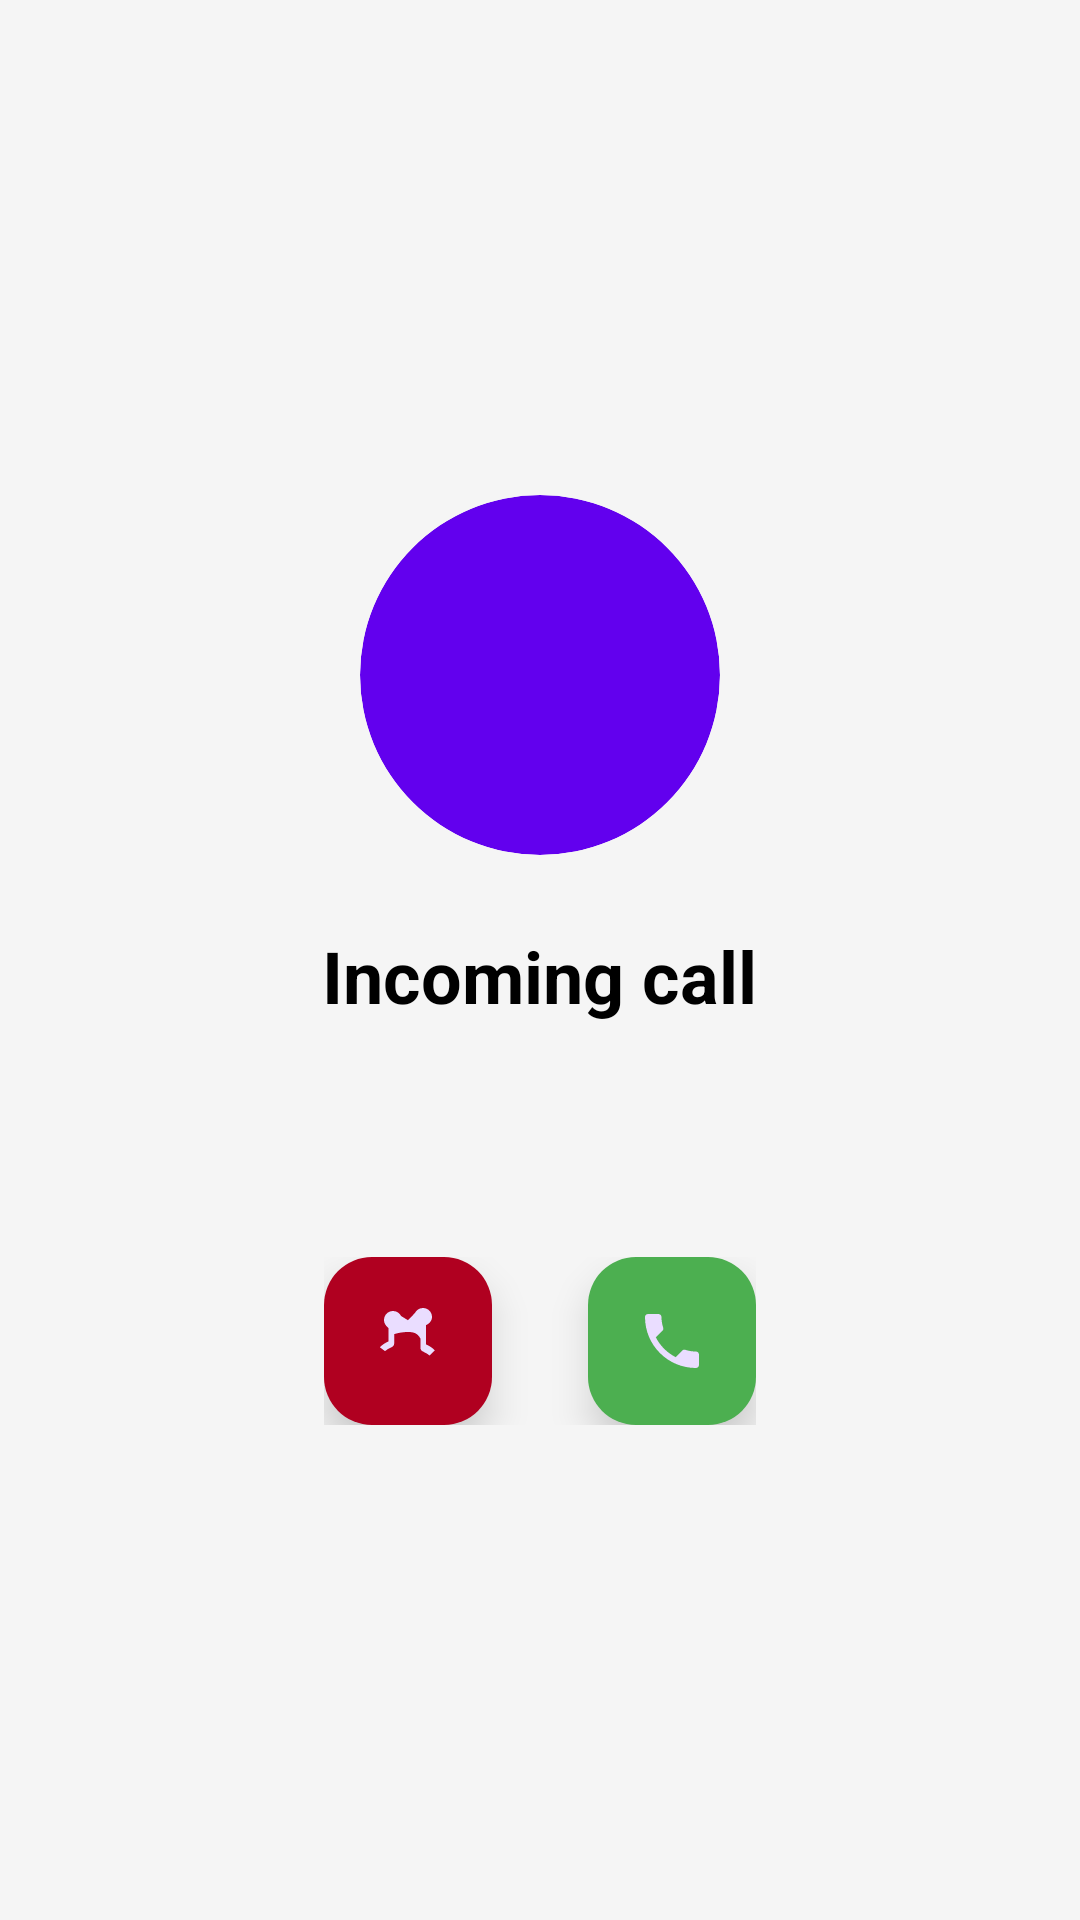

Where to tap for icons on this 1080px×1920px app screen, as (x,y):
Accept: (672,1341)
Decline: (408,1341)
